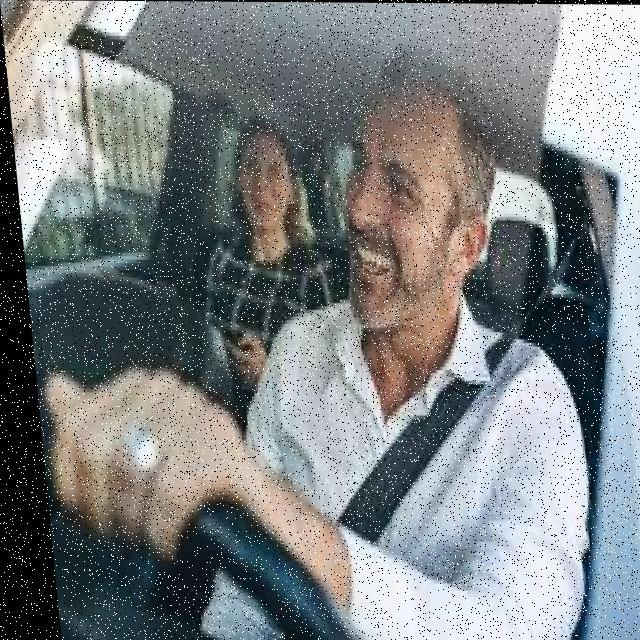noSeatbelt: (192, 208, 325, 359)
seatbelt: (230, 294, 586, 620)
